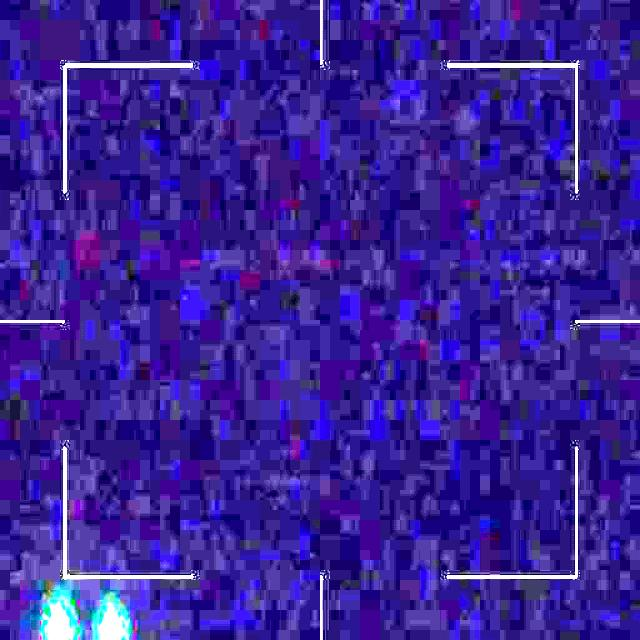bird: (42, 602, 125, 640)
